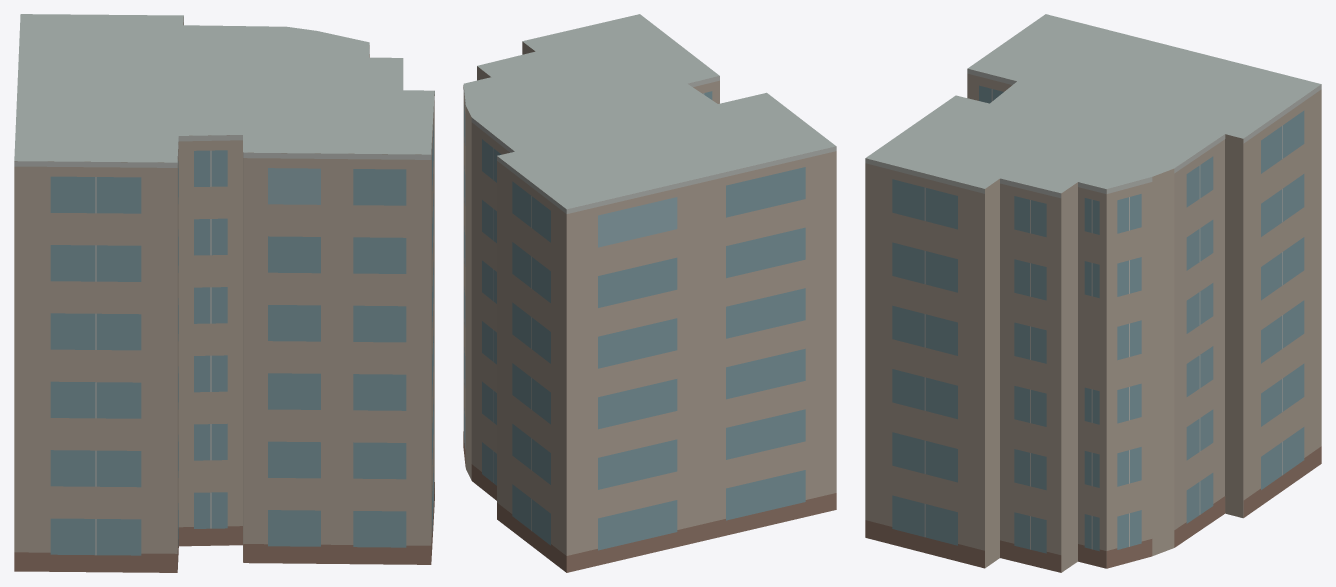
The model's file is survey-upis-32655863.glb.
3 views of the same model, side by side, from view 1: azimuth 30°, elevation 25°; view 2: azimuth 150°, elevation 25°; view 3: azimuth 270°, elevation 25° (orthographic). The views are drawn at different scales.
Parts seen in each view (by area): view 1: survey-upis-32655863.tmp; view 2: survey-upis-32655863.tmp; view 3: survey-upis-32655863.tmp.
Part boxes in pixels (x1,y1,x2,y2): survey-upis-32655863.tmp: [14, 14, 434, 572]; survey-upis-32655863.tmp: [463, 14, 836, 572]; survey-upis-32655863.tmp: [865, 14, 1321, 572].
Size of the model in its own units: 18.71 by 18.45 by 20.11.
